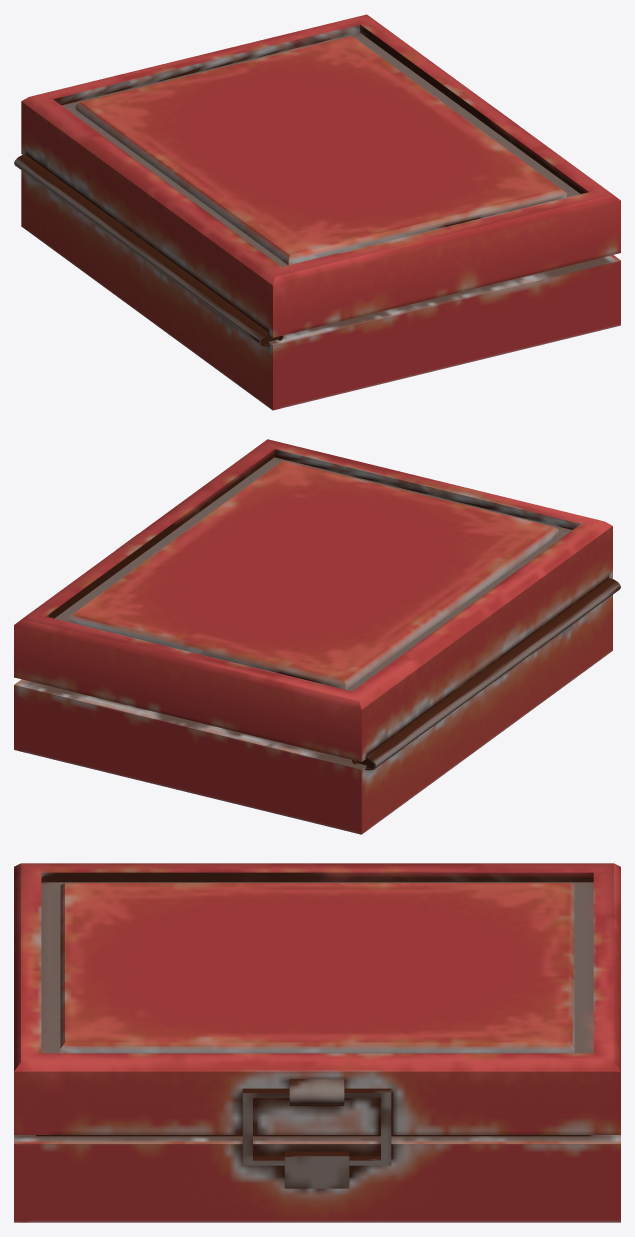
Rendered from PROP_040_MetalBox.fbx.
3 renders of one model, top to bottom at view 1: azimuth 30°, elevation 25°; view 2: azimuth 150°, elevation 25°; view 3: azimuth 270°, elevation 25°, orthographic. The views are drawn at different scales.
Parts seen in each view (by area): view 1: Caja_Metal; view 2: Caja_Metal; view 3: Caja_Metal.
Boxes of the visible parts, left/top/right/bottom form: Caja_Metal: left=14, top=14, right=620, bottom=410; Caja_Metal: left=14, top=439, right=620, bottom=834; Caja_Metal: left=14, top=863, right=620, bottom=1222.
Size of the model in its own units: 0.6 by 0.2 by 0.7.
Materials: 1 (1 with a texture image).
